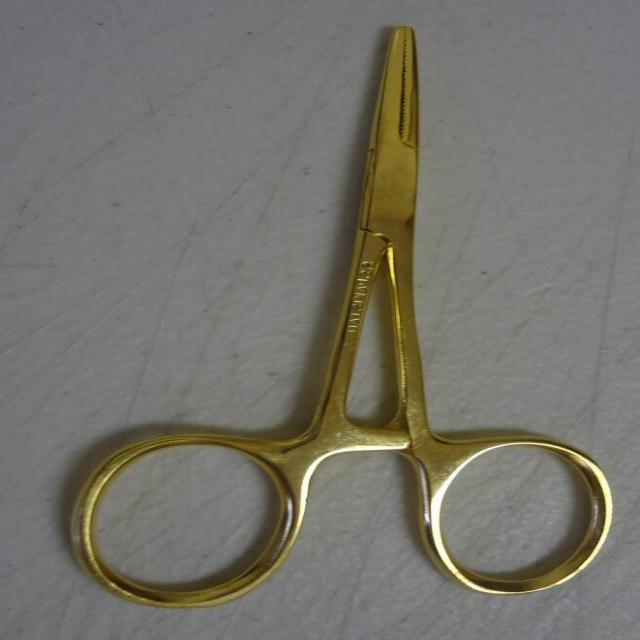Hemostat: (55, 21, 623, 611)
